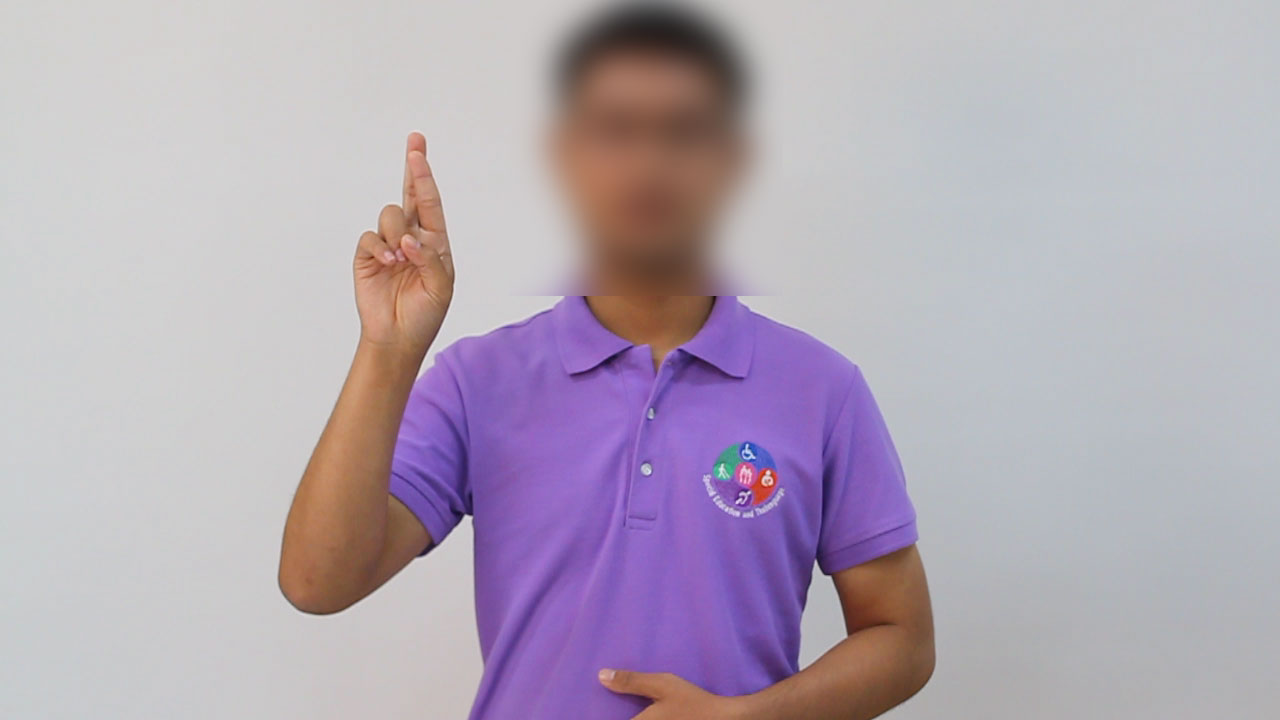rao: (333, 124, 457, 372)
